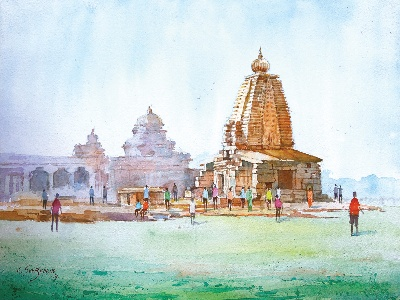amalaka: (243, 55, 286, 79)
gopuram: (216, 72, 312, 152)
